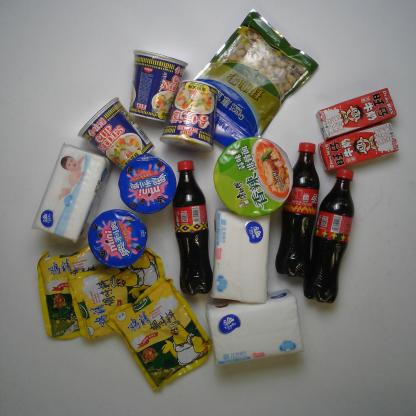Dessert: (85, 205, 151, 272), (116, 152, 180, 217)
Dried Fruit: (165, 8, 322, 159)
Drink: (301, 165, 356, 306), (169, 157, 218, 300), (274, 140, 322, 282)
Instant Noodles: (210, 134, 297, 221), (74, 94, 159, 180), (125, 46, 189, 125), (159, 76, 222, 156)
Milk: (314, 85, 400, 142), (317, 120, 401, 177)
Seasoner: (105, 276, 217, 395), (65, 245, 176, 342), (36, 235, 117, 344)
Tissue: (25, 140, 118, 248), (204, 288, 306, 370), (206, 204, 272, 306)
